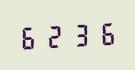six: (18, 22, 41, 51), (90, 18, 113, 47)
three: (66, 20, 89, 48)
two: (42, 21, 65, 50)
